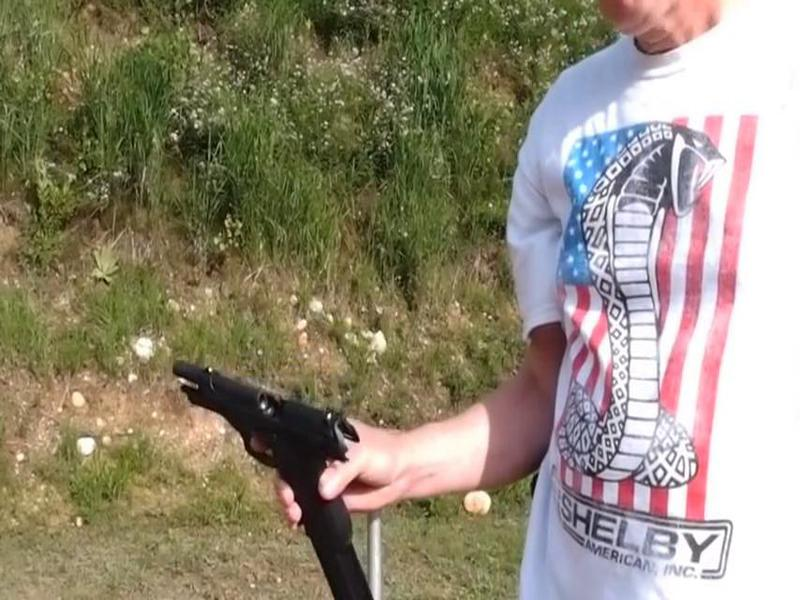Pistola: (142, 337, 371, 551)
